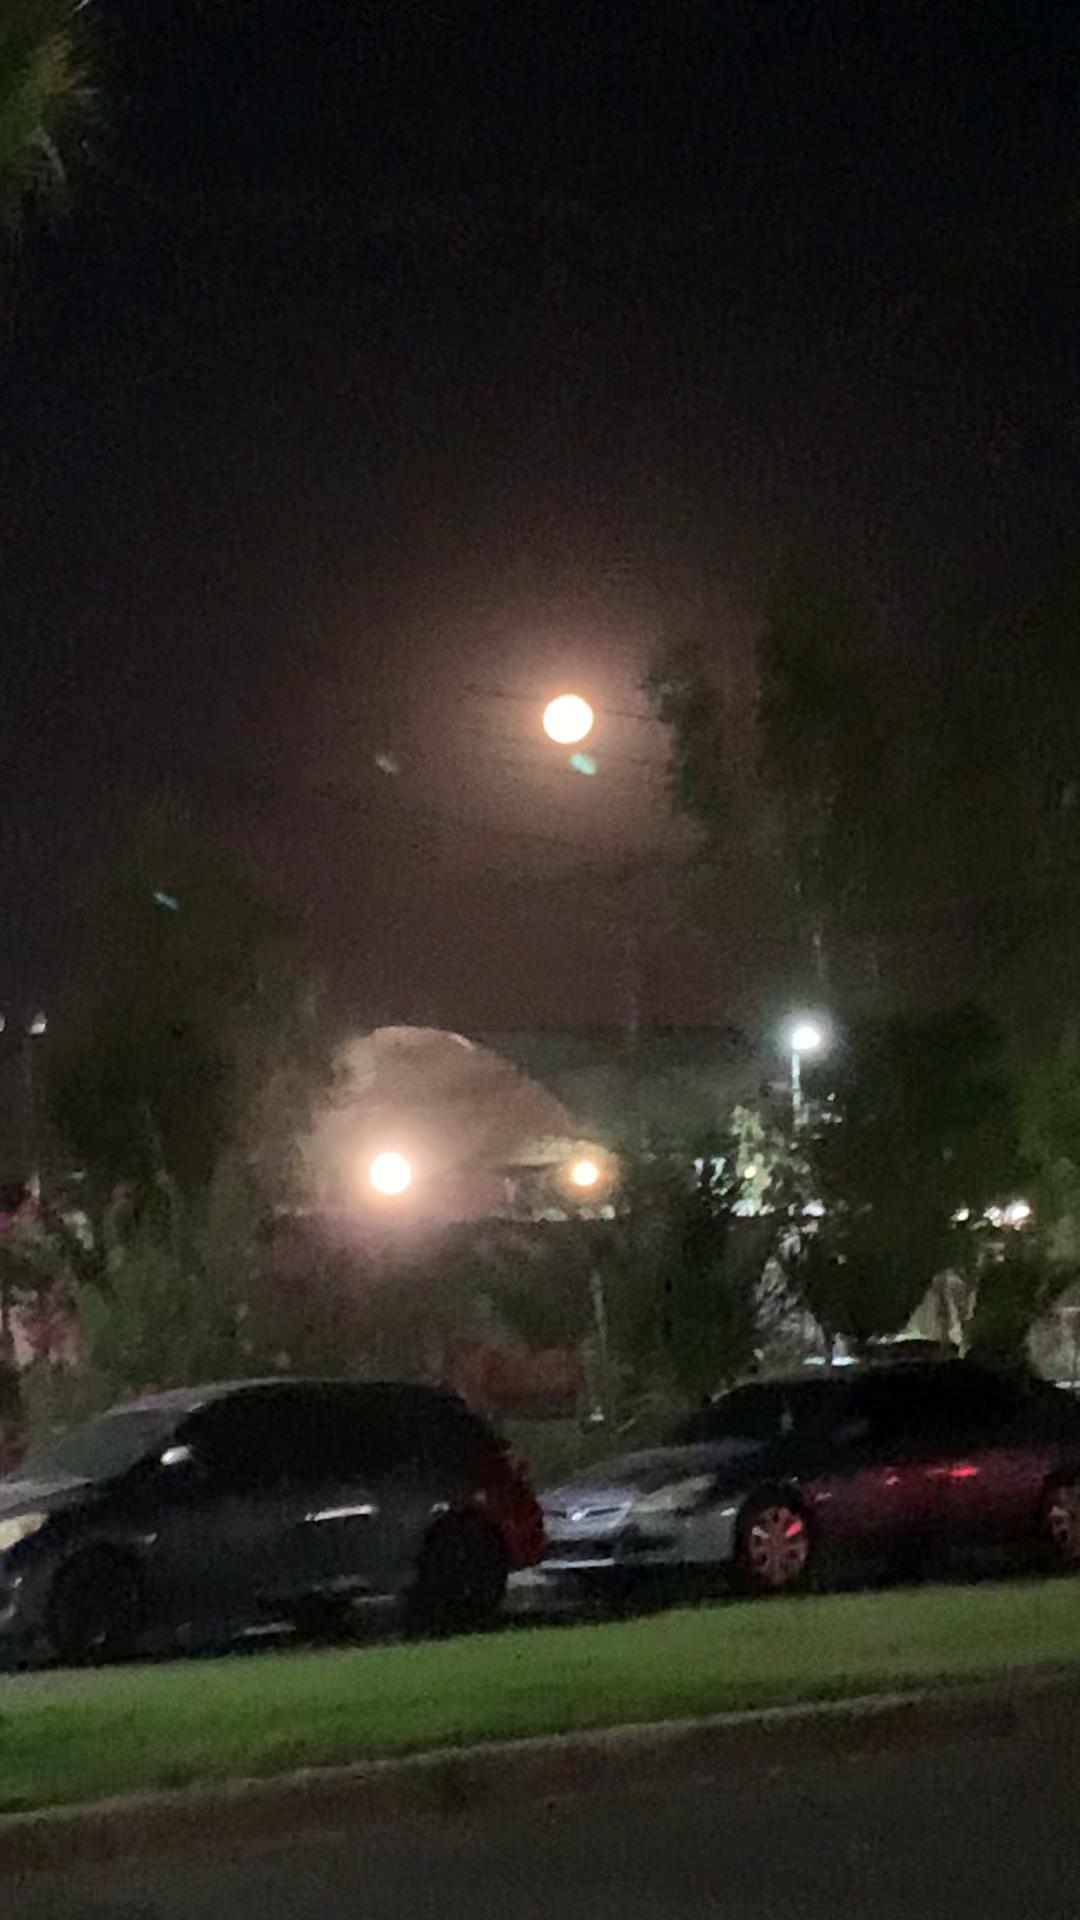moon: (536, 669, 625, 745)
